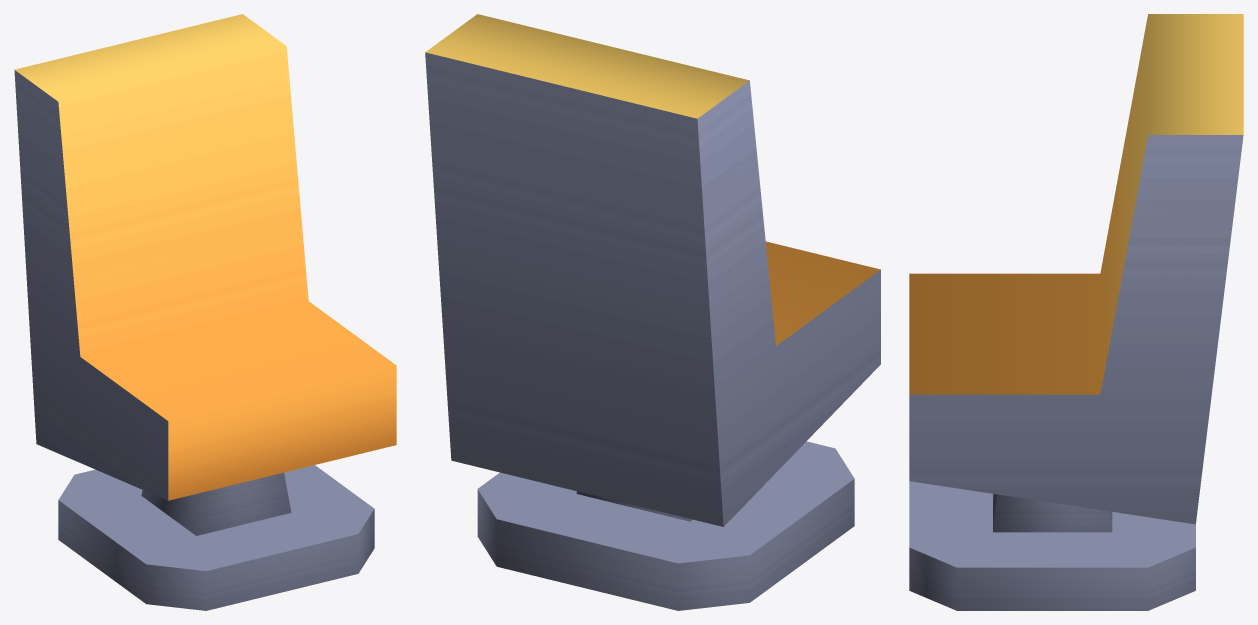
File: kst_chair.glb
3 views of the same model, side by side, from view 1: azimuth 30°, elevation 25°; view 2: azimuth 150°, elevation 25°; view 3: azimuth 270°, elevation 25° (orthographic). The views are drawn at different scales.
Parts seen in each view (by area): view 1: chair; view 2: chair; view 3: chair.
Part boxes in pixels (bbox=[...]): chair: bbox=[14, 14, 396, 610]; chair: bbox=[425, 14, 880, 610]; chair: bbox=[909, 14, 1243, 610].
Size of the model in its own units: 0.6 by 1.1 by 0.7.
Materials: 1 (1 with a texture image).
